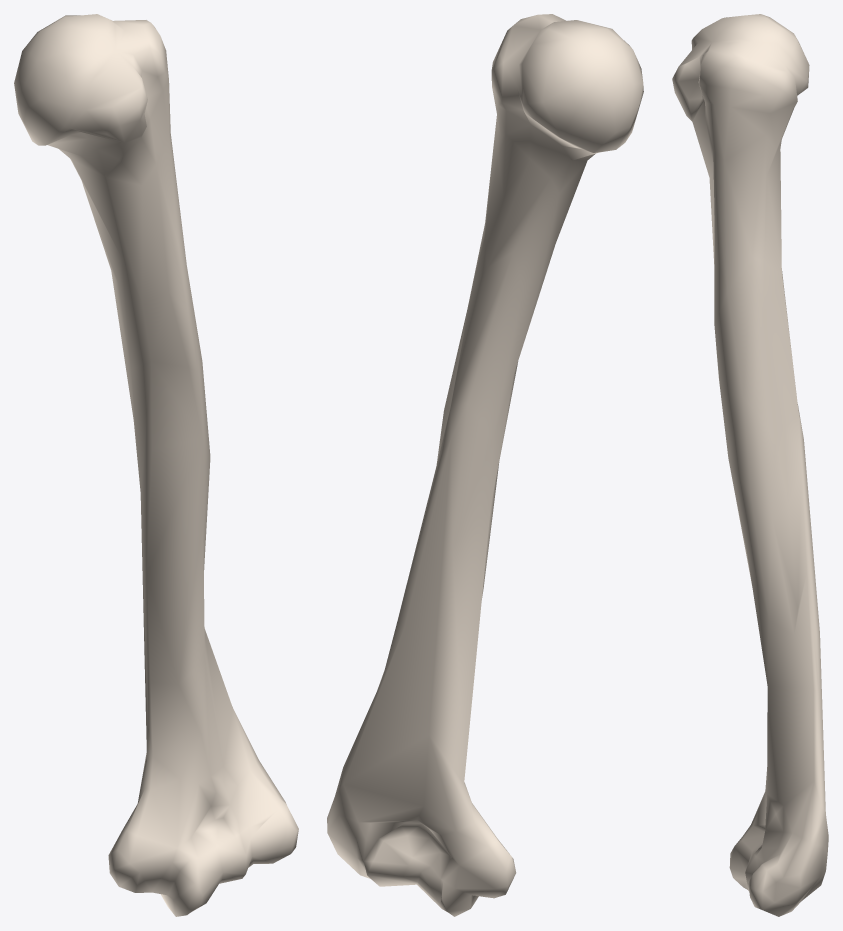
The model's file is left_humerus.glb.
3 renders of one model, left to right at view 1: azimuth 30°, elevation 25°; view 2: azimuth 150°, elevation 25°; view 3: azimuth 270°, elevation 25°, orthographic. The views are drawn at different scales.
Parts seen in each view (by area): view 1: Humerus.r; view 2: Humerus.r; view 3: Humerus.r.
Part boxes in pixels (x1,y1,x2,y2): Humerus.r: (14, 14, 298, 916); Humerus.r: (327, 14, 643, 916); Humerus.r: (672, 14, 828, 916).
Size of the model in its own units: 0.076 by 0.2344 by 0.0402.
